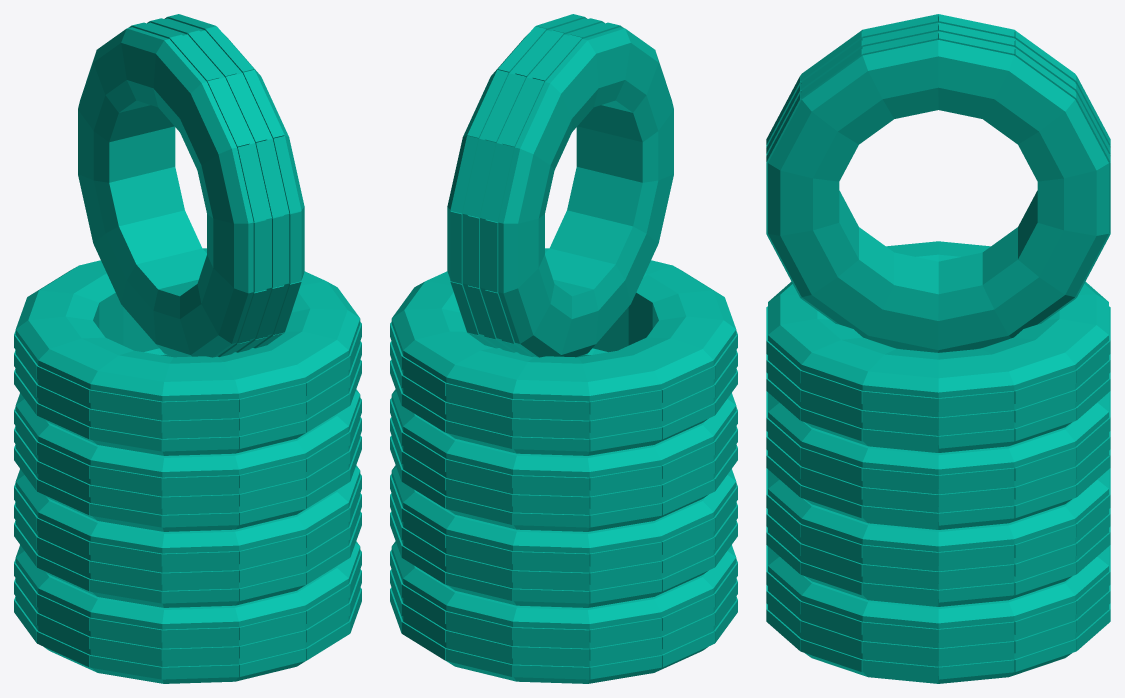
File: TireStack_BH.fbx
3 renders of one model, left to right at view 1: azimuth 30°, elevation 25°; view 2: azimuth 150°, elevation 25°; view 3: azimuth 270°, elevation 25°, orthographic.
Parts seen in each view (by area): view 1: TireStack_BH; view 2: TireStack_BH; view 3: TireStack_BH.
Part boxes in pixels (left/top/right/bottom): TireStack_BH: left=14, top=14, right=361, bottom=683; TireStack_BH: left=390, top=14, right=737, bottom=683; TireStack_BH: left=766, top=14, right=1110, bottom=683.
Bounding box in the file's own units: 130 × 241 × 127.
